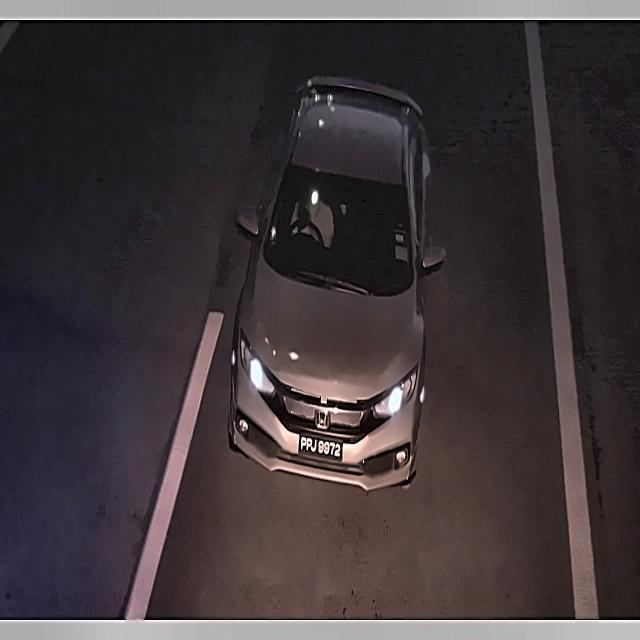car: (292, 425, 352, 466)
